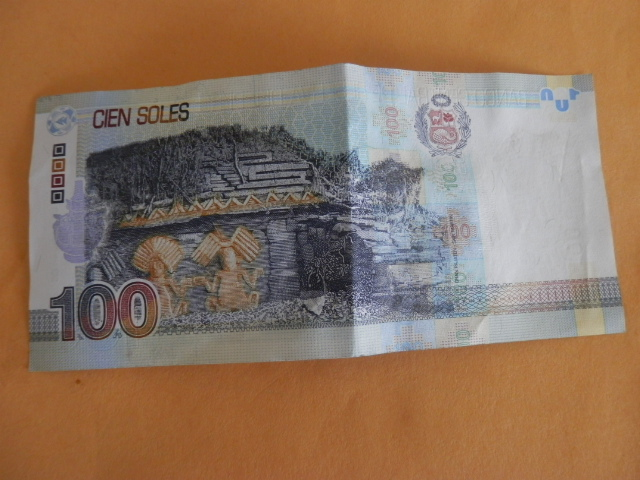B100: (19, 77, 631, 360)
